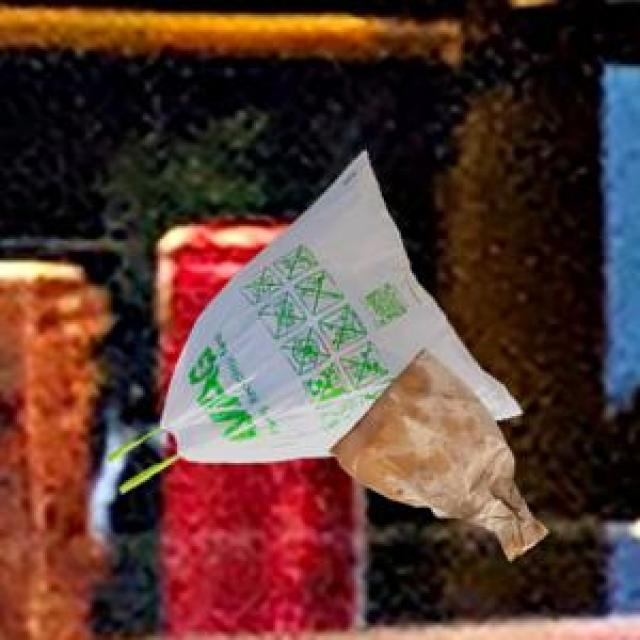paper: (324, 346, 544, 557)
